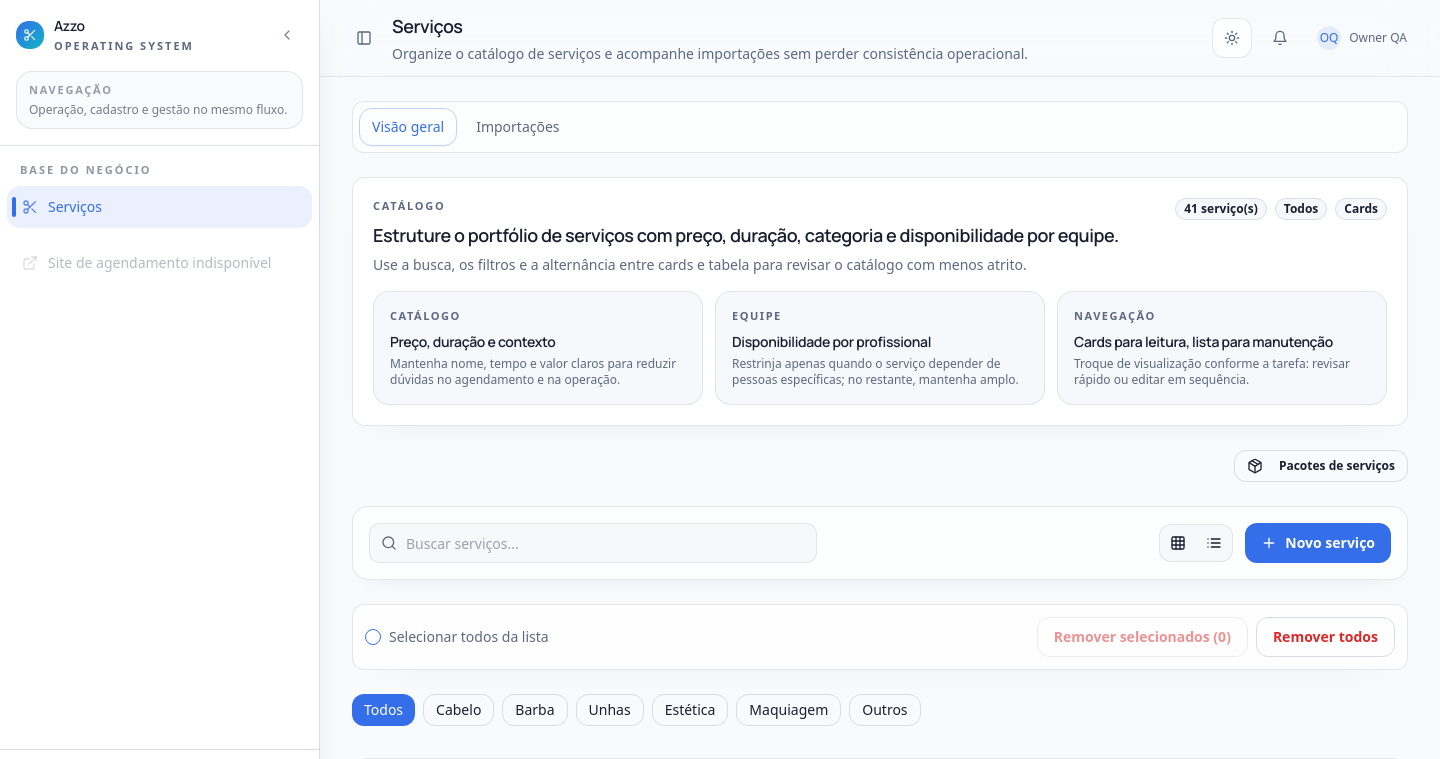
Services › should show inline validation for required service fields
Click the button "Novo serviço": point(1318, 543) [1245,523,1391,563]
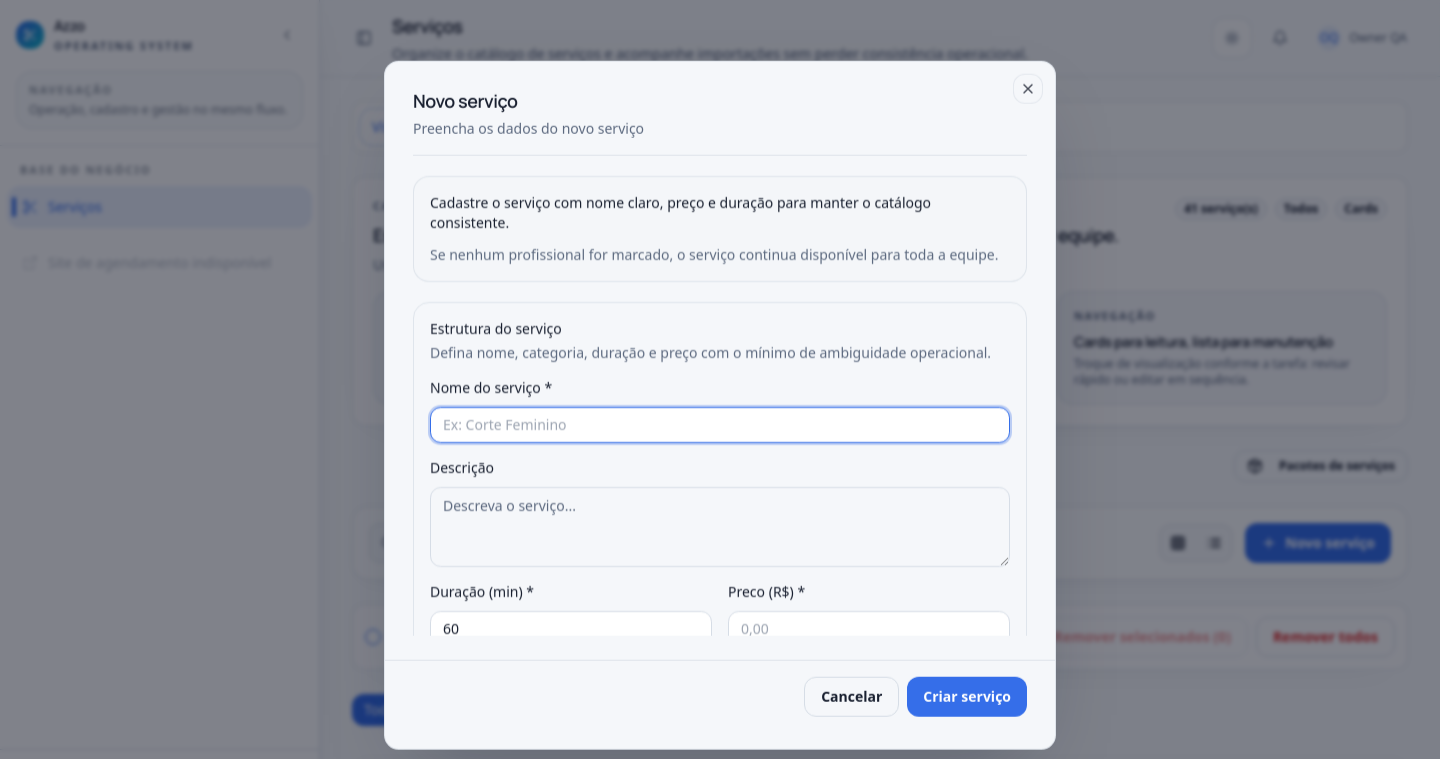
Clear the number field with placeholder "60": point(571, 628) [430,610,712,646]
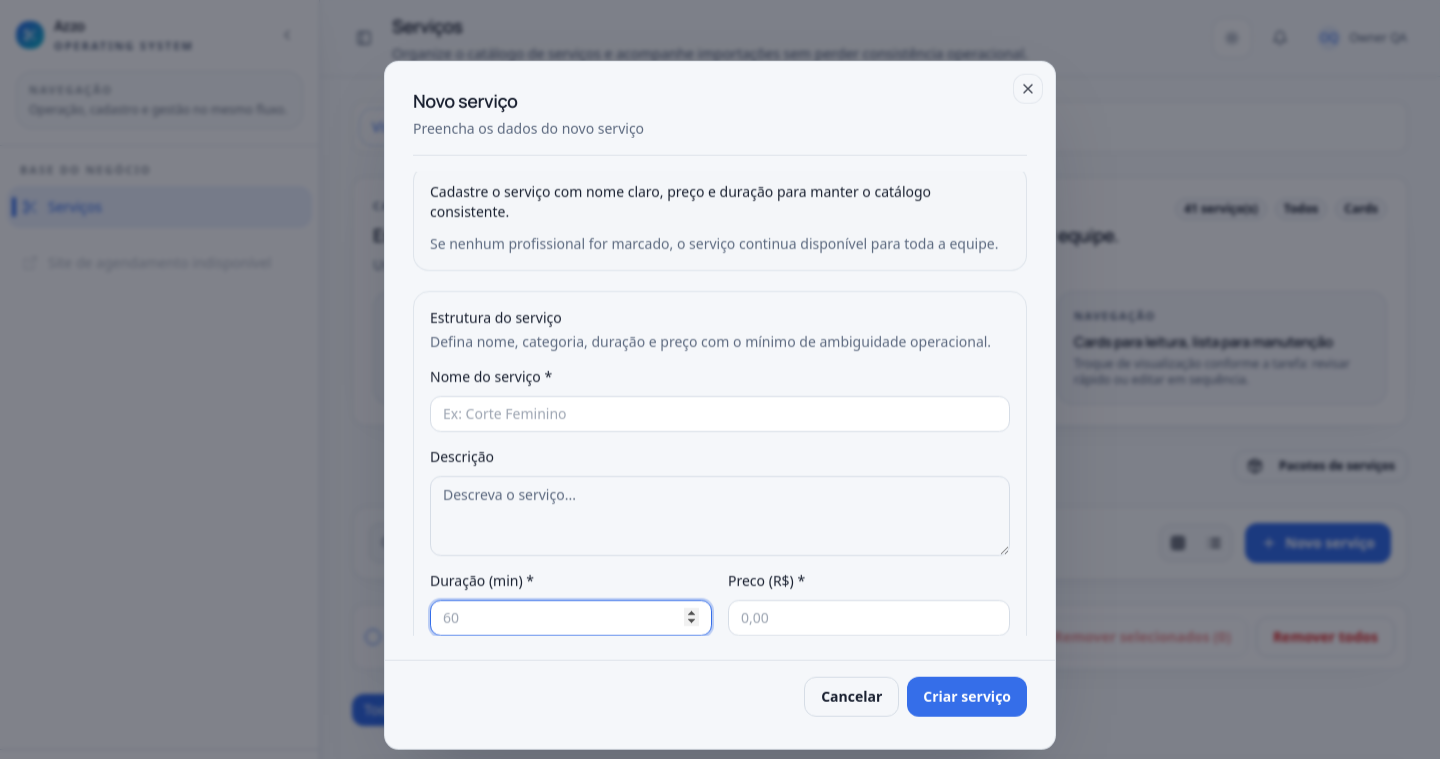
Clear the field with placeholder "0,00": point(869, 617) [728,599,1010,635]
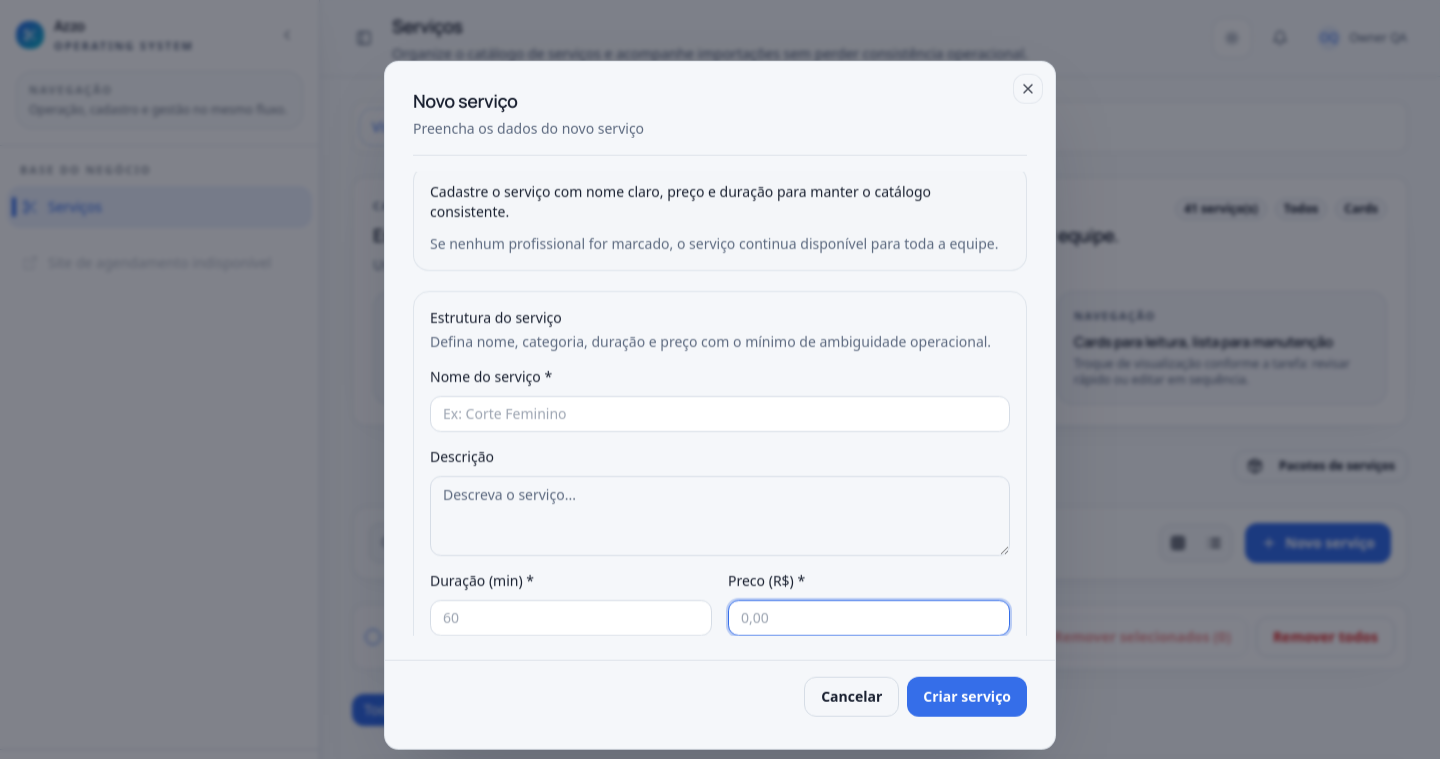
Click the button "Criar serviço": point(967, 696) [907,676,1027,716]
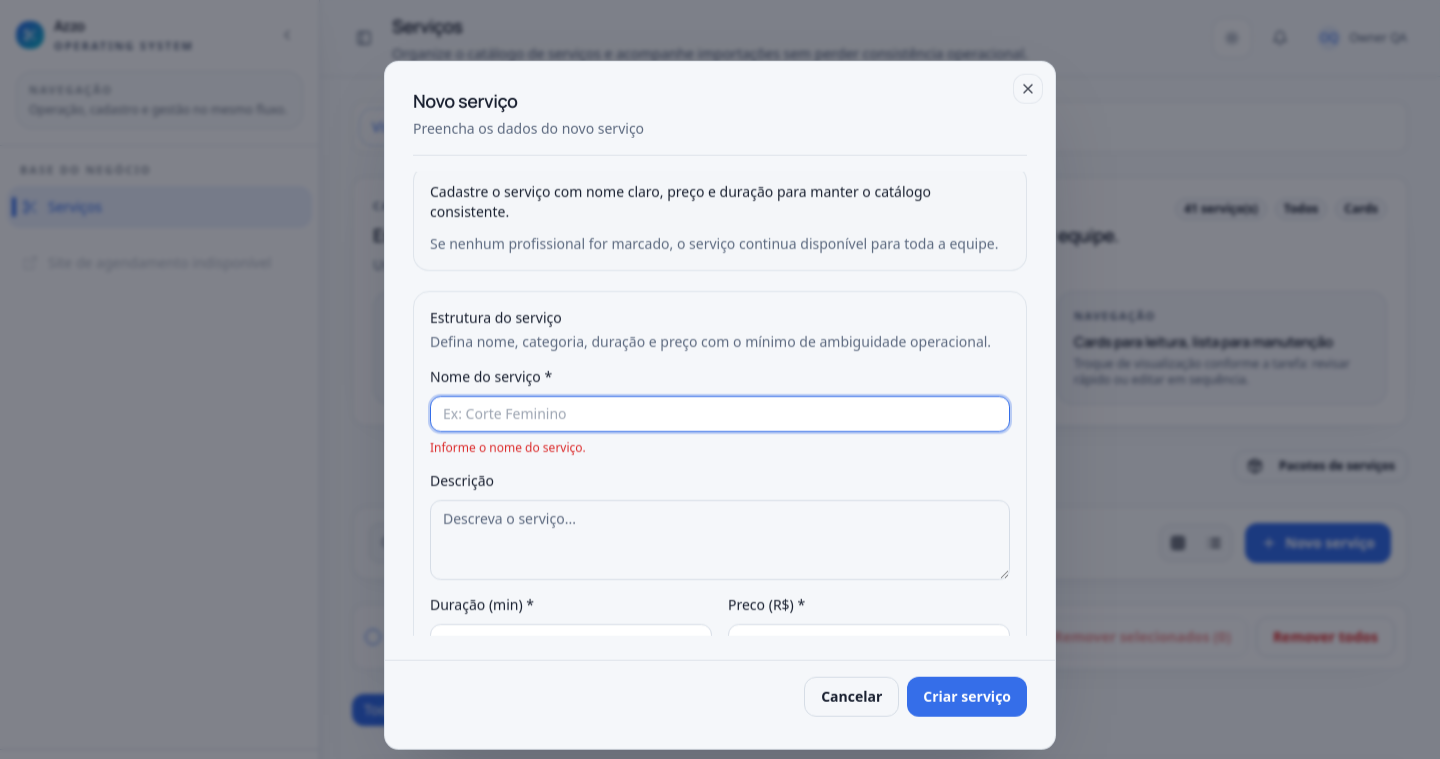
expect the text "Informe o nome do serviço." is shown: met, box [430,438,586,455]
